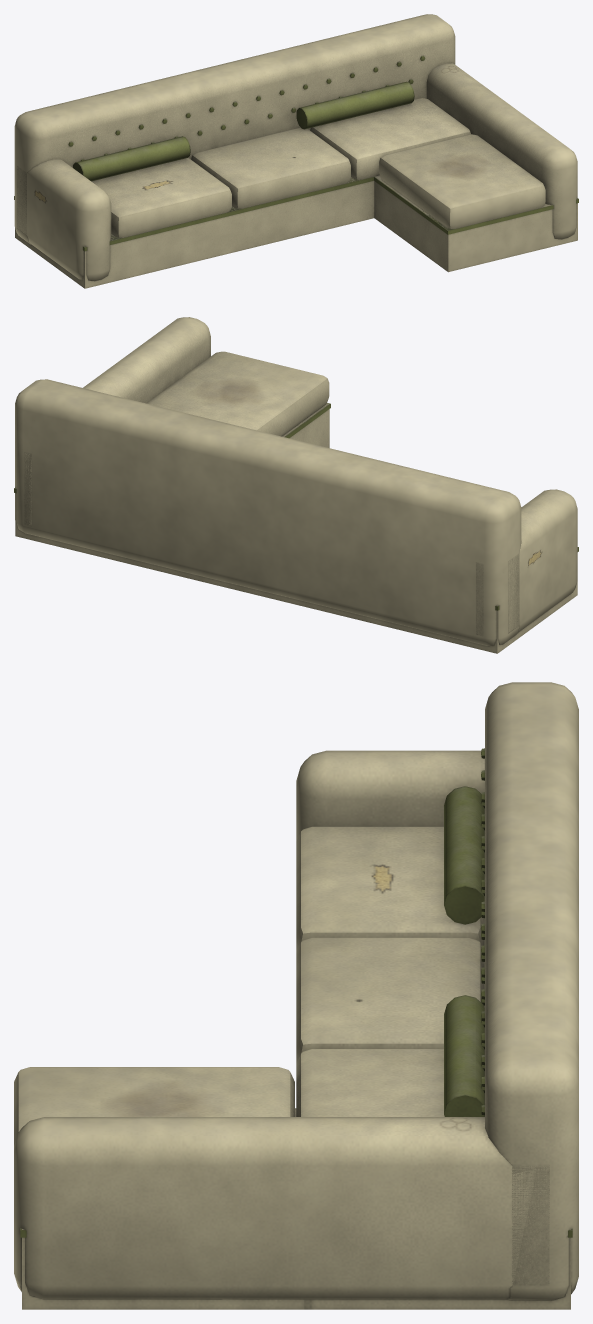
File: H_Sofa_Sectional.fbx
The picture shows the model from 3 angles, top to bottom: view 1: azimuth 30°, elevation 25°; view 2: azimuth 150°, elevation 25°; view 3: azimuth 270°, elevation 25°; orthographic projection. The views are drawn at different scales.
Parts seen in each view (by area): view 1: H_Sofa_Sectional; view 2: H_Sofa_Sectional; view 3: H_Sofa_Sectional.
Part boxes in pixels (box(x1,y1,x2,y2)): H_Sofa_Sectional: box(14, 14, 578, 288); H_Sofa_Sectional: box(14, 317, 578, 653); H_Sofa_Sectional: box(14, 682, 578, 1309).
Bounding box in the file's own units: 1200 × 340 × 720.
Materials: 1 (1 with a texture image).
